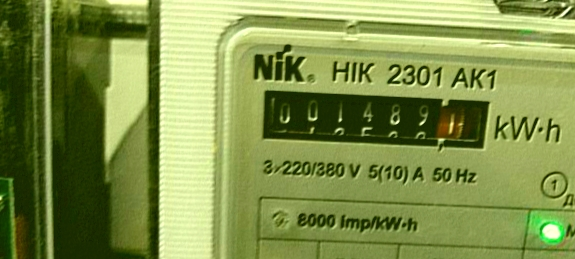0: (303, 97, 320, 123), (276, 100, 292, 126)
1: (332, 97, 347, 127), (444, 107, 457, 137)
4: (359, 99, 376, 126)
8: (385, 100, 403, 127)
9: (414, 103, 430, 128)
screen: (246, 79, 505, 164)
